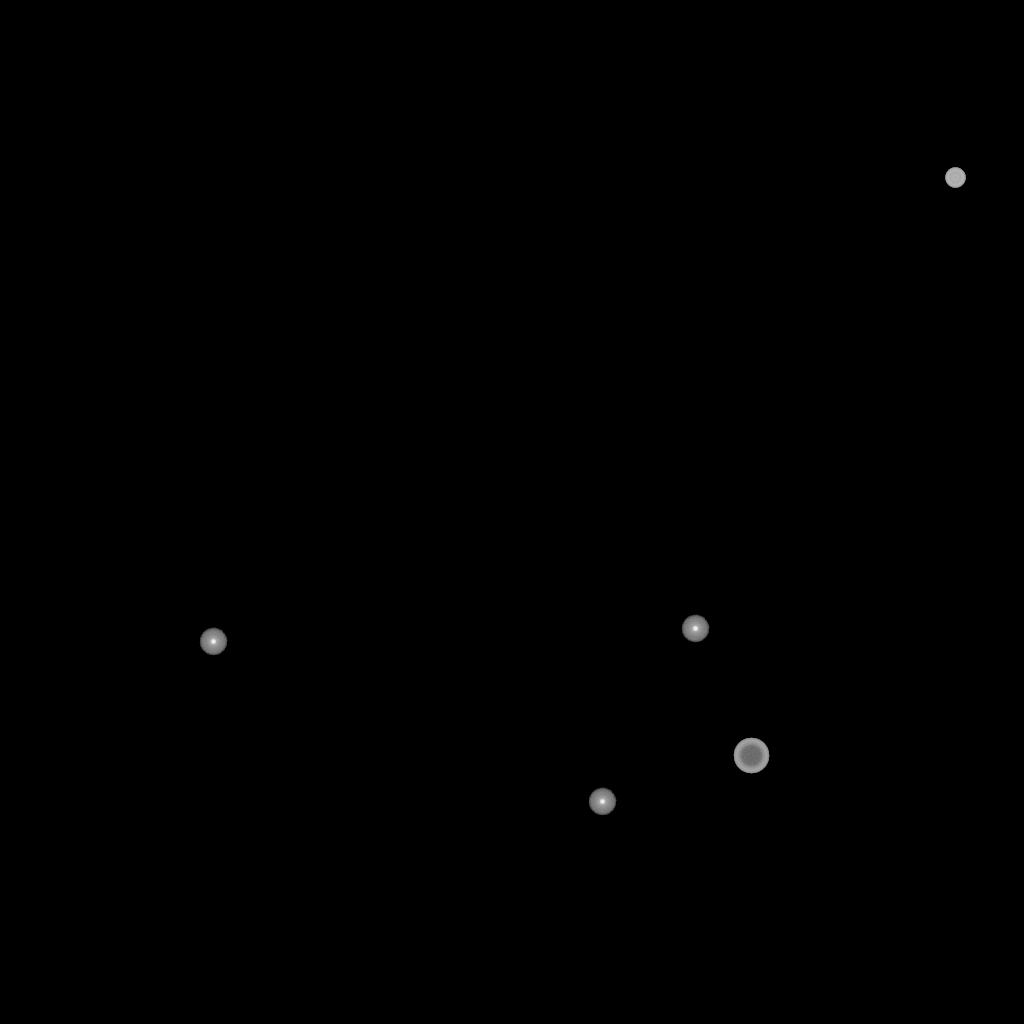depth:-10: (199, 628, 227, 656), (681, 615, 709, 643), (588, 788, 616, 816)
depth:-40: (945, 168, 965, 188)
depth:-60: (733, 738, 769, 774)
